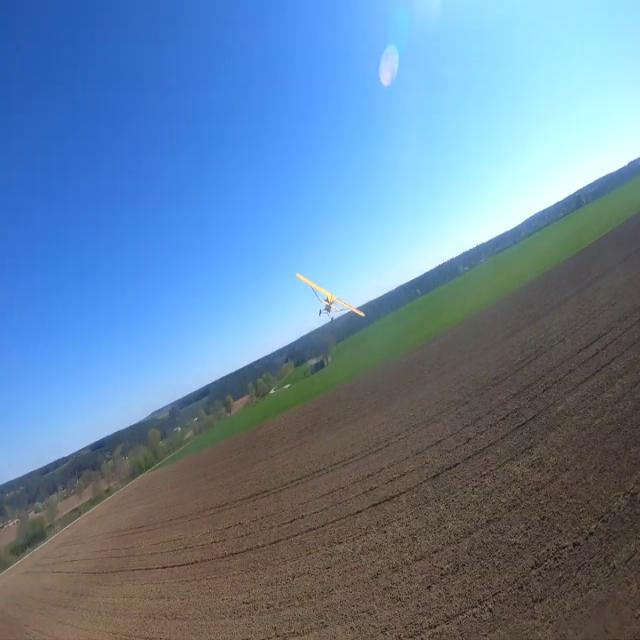iha: (321, 270, 327, 320)
